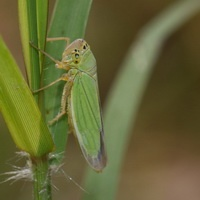insect: (30, 39, 105, 170)
